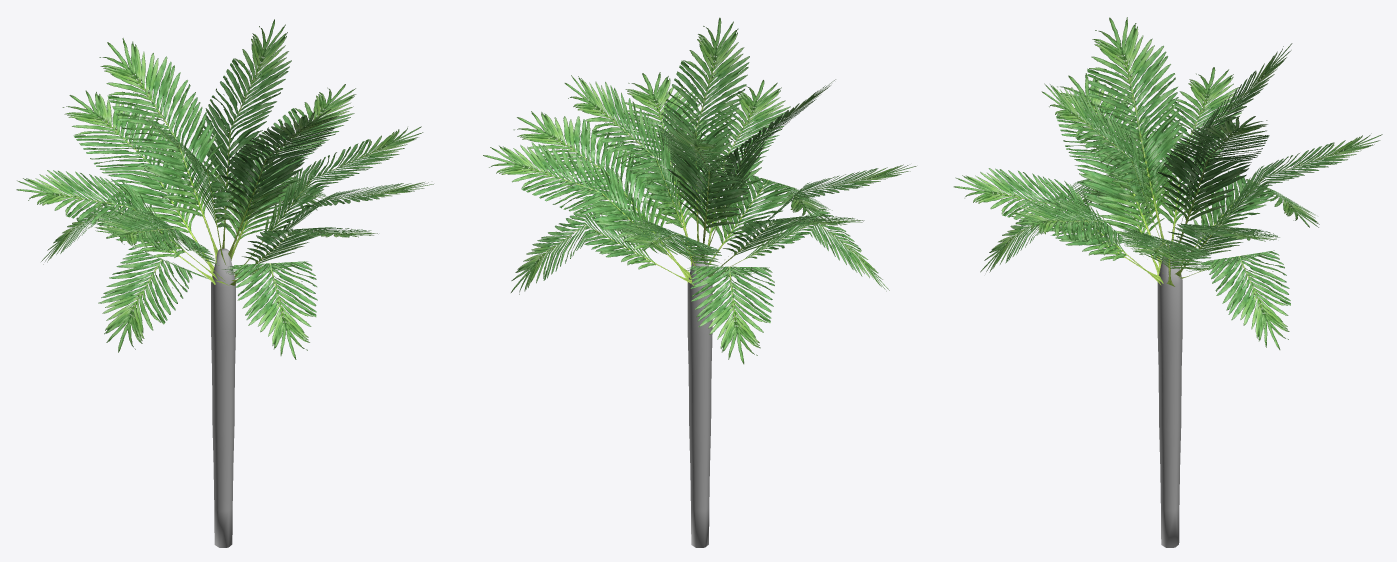
File: HyPV2_2s_LOD1.fbx
3 views of the same model, side by side, from view 1: azimuth 30°, elevation 25°; view 2: azimuth 150°, elevation 25°; view 3: azimuth 270°, elevation 25° (orthographic).
Visible parts, largest first — view 1: HyPV2_LOD1; view 2: HyPV2_LOD1; view 3: HyPV2_LOD1.
Boxes of the visible parts, left/top/right/bottom form: HyPV2_LOD1: left=16, top=19, right=433, bottom=547; HyPV2_LOD1: left=483, top=17, right=916, bottom=547; HyPV2_LOD1: left=953, top=17, right=1382, bottom=547.
Size of the model in its own units: 1249 by 1445 by 1178.
